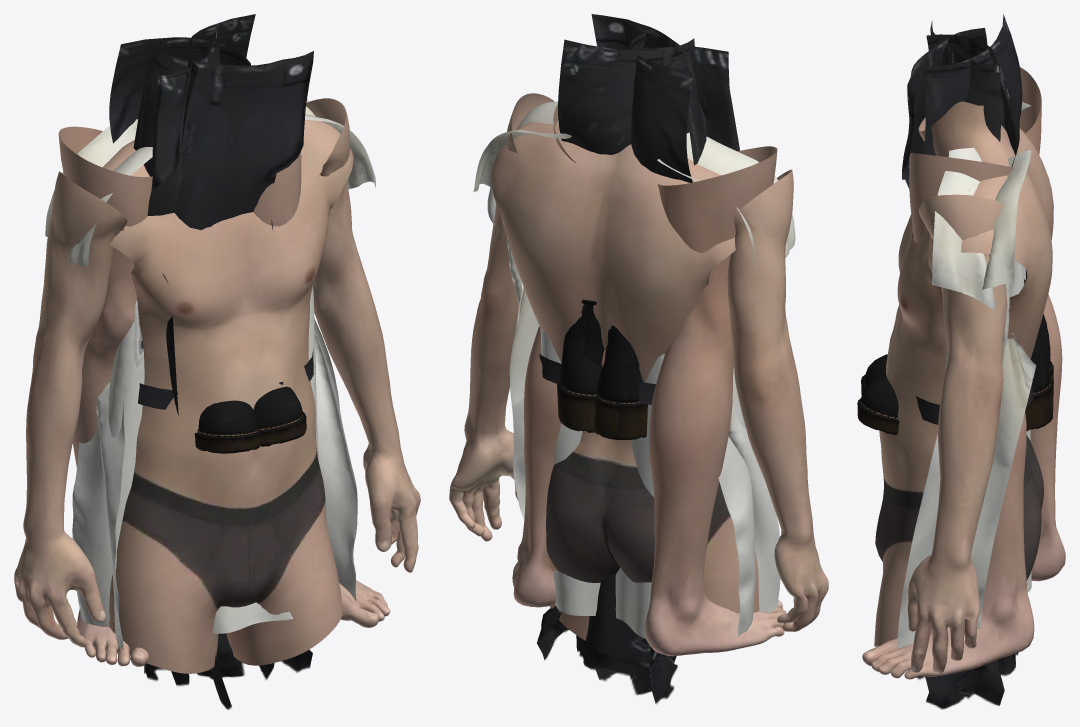
Rendered from club-avatar-4.glb.
The picture shows the model from 3 angles, left to right: view 1: azimuth 30°, elevation 25°; view 2: azimuth 150°, elevation 25°; view 3: azimuth 270°, elevation 25°; orthographic projection. The views are drawn at different scales.
Visible parts, largest first — view 1: body (×3), Pattern2D_56964, Body_Front, Body_Back, Pattern2D_56966, Pattern2D_56965, shoes_r_Shape, shoes_l_Shape, Pattern2D_56967, Pattern2D_72373; view 2: body (×3), Pattern2D_56967, Body_Back, Body_Front, Pattern2D_56966, shoes_r_Shape, shoes_l_Shape, Pattern2D_56965, Pattern2D_56964, Pattern2D_72373; view 3: body (×3), Body_Front, Body_Back, Pattern2D_56966, Pattern2D_56965, Pattern2D_56964, shoes_l_Shape, Pattern2D_56967, shoes_r_Shape, Pattern2D_72373.
Boxes of the visible parts, box(x1,y1,x2,y2) form: body (×3): box(14, 98, 420, 673); Pattern2D_56964: box(133, 48, 313, 681); Body_Front: box(45, 99, 318, 633); Body_Back: box(68, 115, 375, 654); Pattern2D_56966: box(109, 37, 312, 709); Pattern2D_56965: box(147, 31, 244, 679); shoes_r_Shape: box(194, 400, 259, 453); shoes_l_Shape: box(253, 386, 306, 446); Pattern2D_56967: box(171, 14, 274, 685); Pattern2D_72373: box(138, 349, 313, 409); body (×3): box(449, 93, 828, 656); Pattern2D_56967: box(558, 38, 707, 695); Body_Back: box(487, 101, 795, 638); Body_Front: box(473, 130, 755, 637); Pattern2D_56966: box(576, 32, 692, 663); shoes_r_Shape: box(557, 299, 604, 432); shoes_l_Shape: box(594, 325, 647, 439); Pattern2D_56965: box(537, 46, 739, 680); Pattern2D_56964: box(591, 14, 706, 704); Pattern2D_72373: box(539, 354, 655, 404); body (×3): box(862, 67, 1065, 679); Body_Front: box(945, 102, 1036, 628); Body_Back: box(897, 147, 1031, 649); Pattern2D_56966: box(912, 14, 1022, 709); Pattern2D_56965: box(930, 20, 1004, 705); Pattern2D_56964: box(902, 28, 1018, 655); shoes_l_Shape: box(857, 269, 1053, 435); Pattern2D_56967: box(926, 34, 1019, 676); shoes_r_Shape: box(861, 279, 1053, 431); Pattern2D_72373: box(888, 374, 1033, 424).
Size of what is drawn, in the model's own units: 21438 by 35320 by 10429.
Materials: 18 (18 with a texture image).
